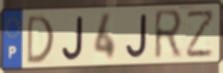4: (91, 10, 118, 65)
D: (25, 13, 55, 67)
J: (124, 12, 149, 60), (61, 15, 85, 62)
R: (153, 7, 185, 63)
Z: (185, 8, 216, 60)
